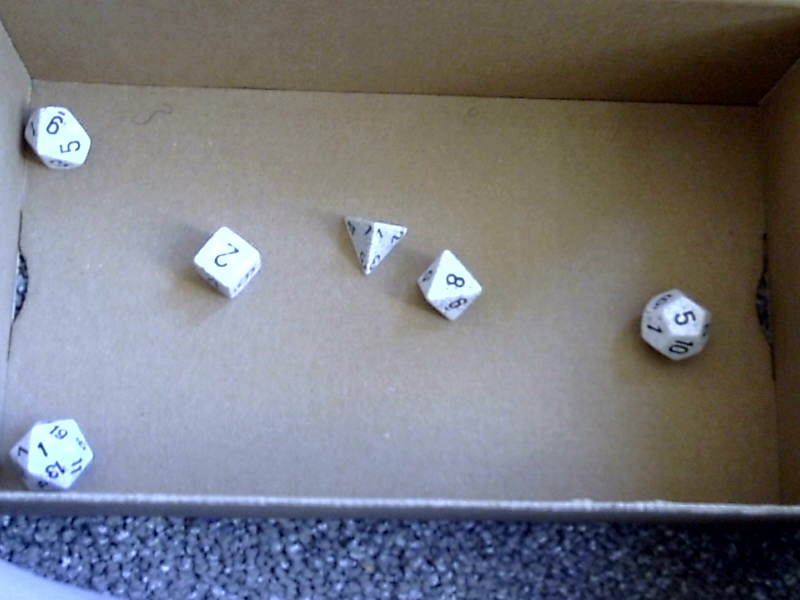d10 9: (18, 96, 101, 179)
d12 5: (632, 279, 718, 369)
d20 1: (6, 403, 96, 501)
d4 1: (336, 205, 407, 280)
d6 2: (183, 220, 269, 302)
d8 8: (410, 241, 485, 328)
